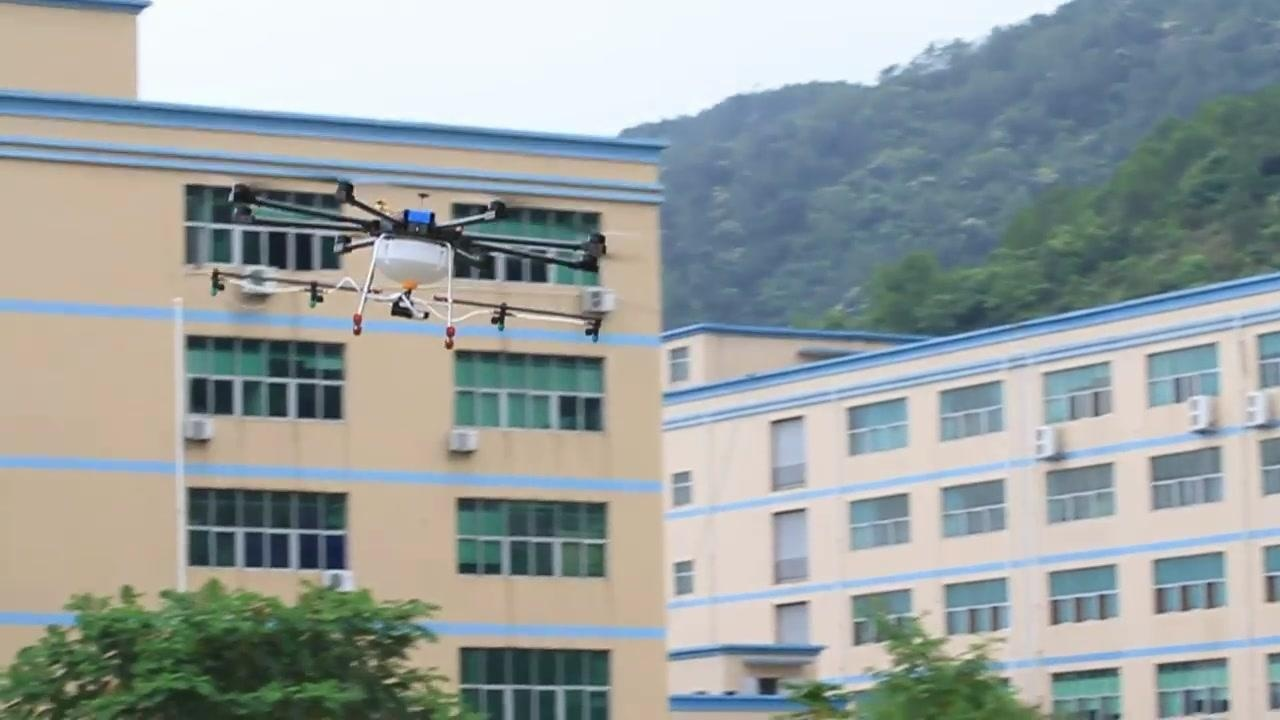UAV: (211, 182, 608, 350)
